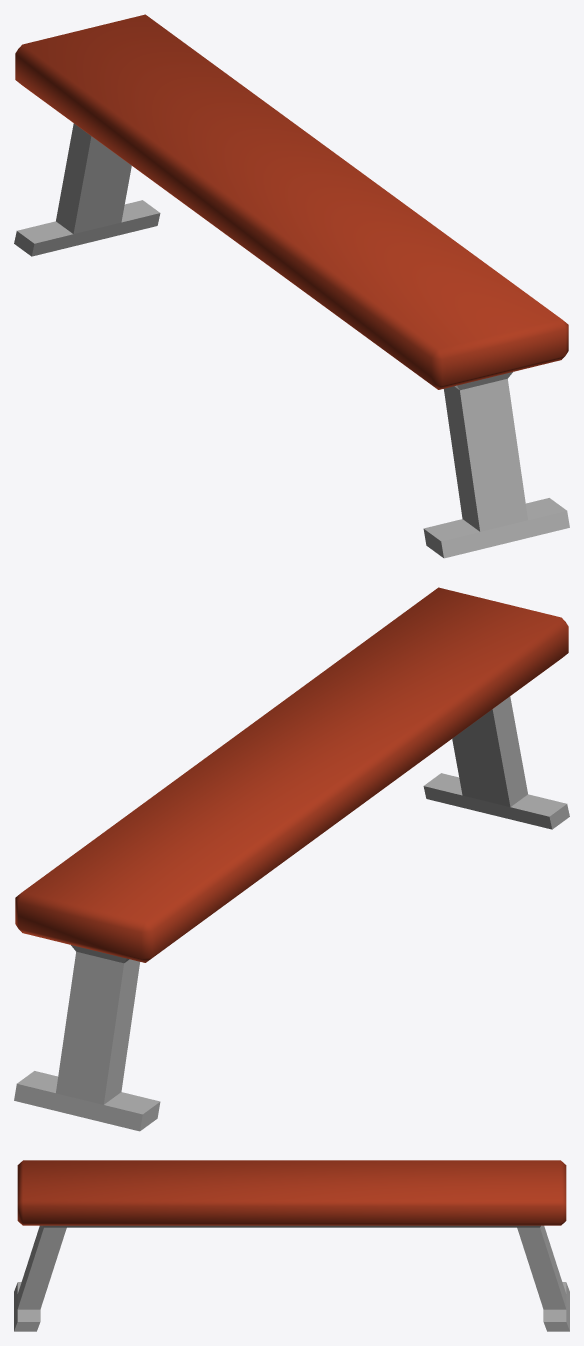
Rendered from Bench_A.fbx.
3 renders of one model, top to bottom at view 1: azimuth 30°, elevation 25°; view 2: azimuth 150°, elevation 25°; view 3: azimuth 270°, elevation 25°, orthographic. The views are drawn at different scales.
Visible parts, largest first — view 1: Bench_A; view 2: Bench_A; view 3: Bench_A.
Part boxes in pixels (x1,y1,x2,y2): Bench_A: (14, 14, 569, 558); Bench_A: (14, 587, 569, 1131); Bench_A: (14, 1160, 569, 1331).
Size of the model in its own units: 35.24 by 49.99 by 191.
